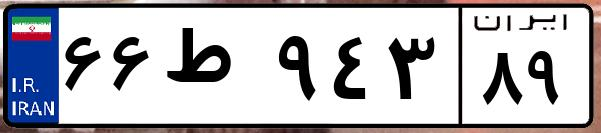3: (385, 28, 445, 110)
4: (330, 28, 385, 110)
6: (57, 26, 110, 100), (110, 28, 158, 98)
8: (475, 38, 525, 113)
9: (270, 28, 330, 110), (525, 38, 570, 115)
ط: (158, 20, 270, 120)
